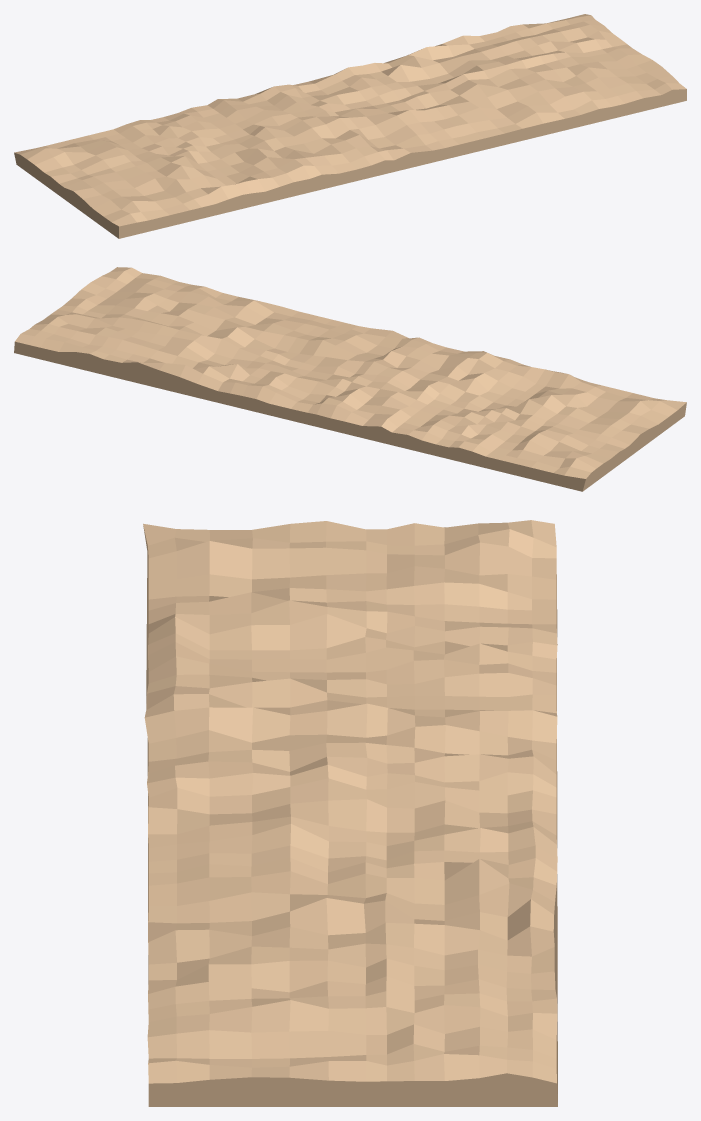
The model's file is FLOOR.fbx.
The picture shows the model from 3 angles, top to bottom: view 1: azimuth 30°, elevation 25°; view 2: azimuth 150°, elevation 25°; view 3: azimuth 270°, elevation 25°; orthographic projection. The views are drawn at different scales.
Visible parts, largest first — view 1: pCube1; view 2: pCube1; view 3: pCube1.
Part boxes in pixels (x1,y1,x2,y2): pCube1: (14, 14, 686, 238); pCube1: (14, 267, 686, 491); pCube1: (143, 520, 557, 1106).
Size of the model in its own units: 335 by 13.98 by 105.
